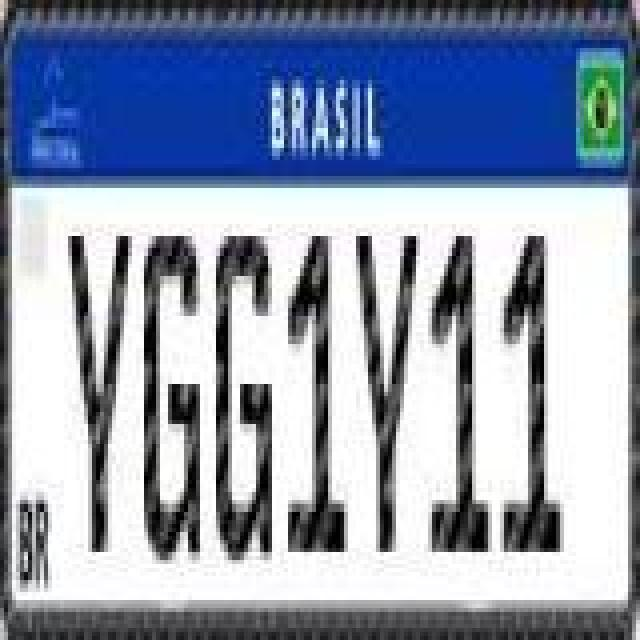1: (284, 230, 348, 554), (424, 230, 488, 554), (500, 230, 564, 554)
G: (140, 232, 204, 568), (212, 224, 276, 560)
Y: (66, 230, 134, 554), (352, 224, 416, 560)
